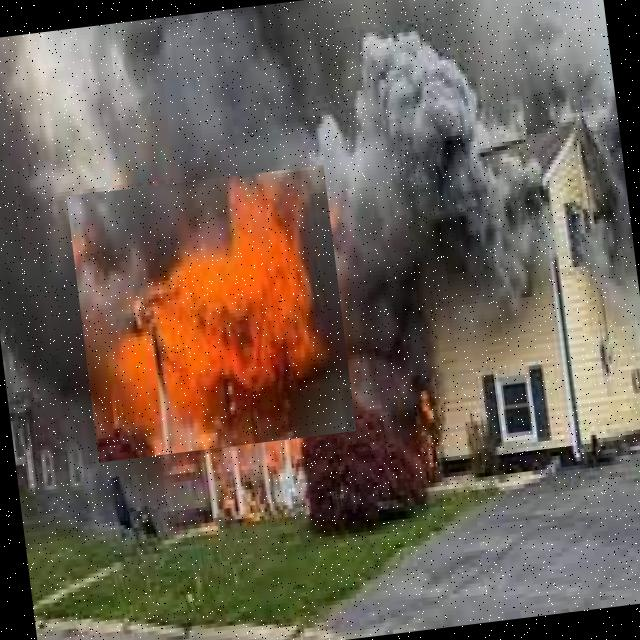fire: (66, 165, 356, 462)
